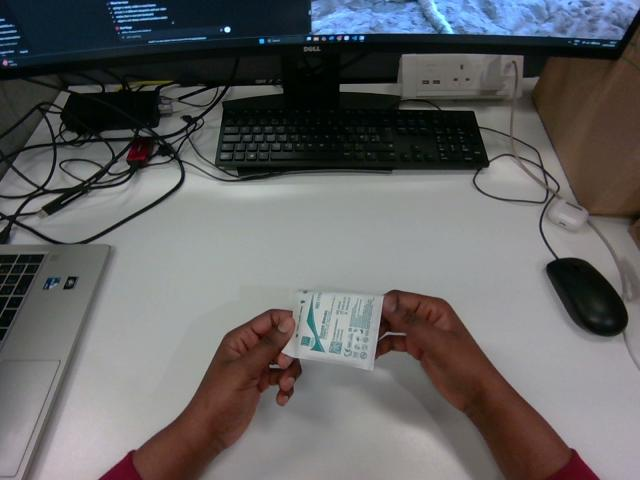gauze: (283, 291, 383, 369)
